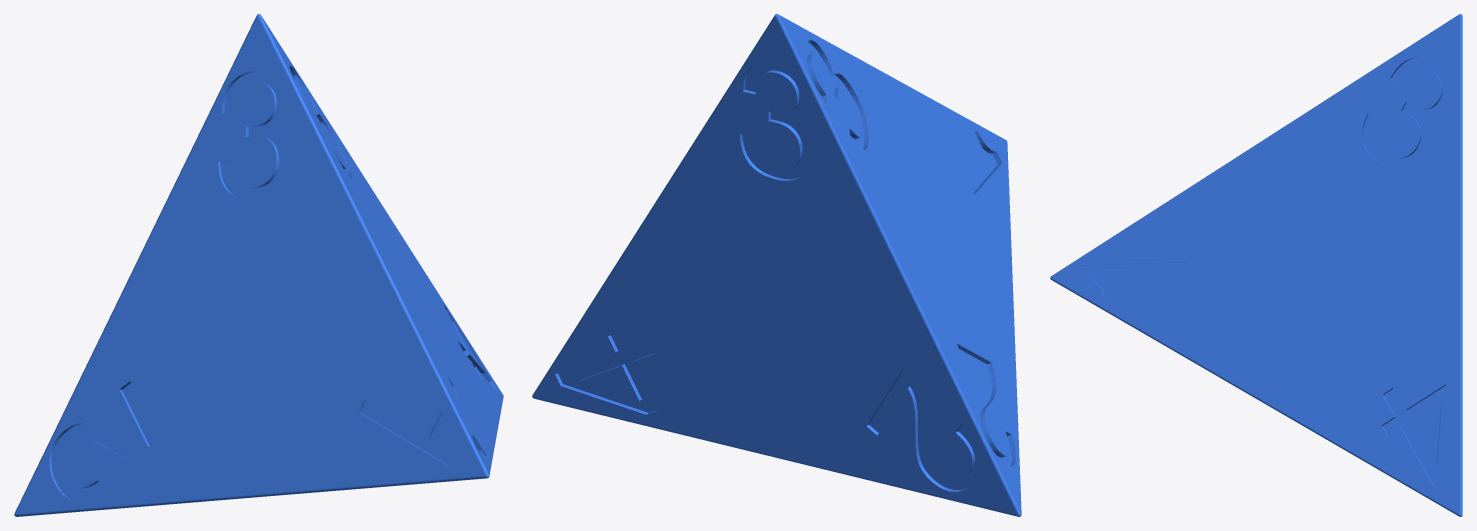
The picture shows the model from 3 angles, left to right: view 1: azimuth 30°, elevation 25°; view 2: azimuth 150°, elevation 25°; view 3: azimuth 270°, elevation 25°; orthographic projection. The views are drawn at different scales.
Bounding box in the file's own units: 33.34 × 28.91 × 27.23.
